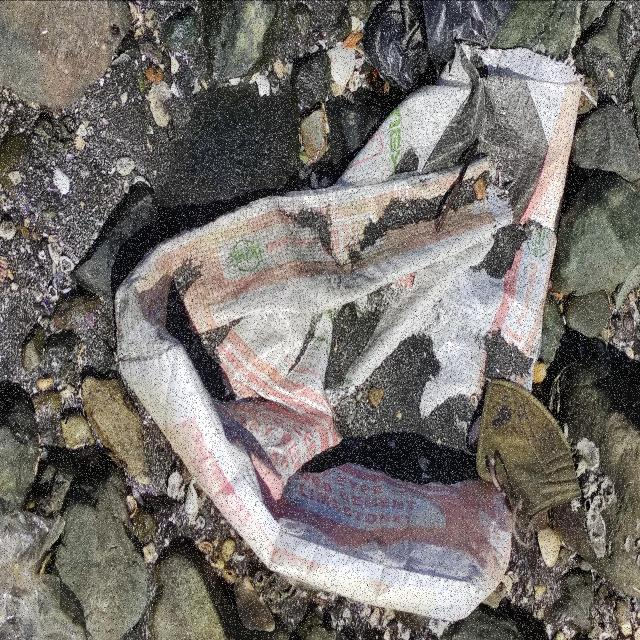plastic_waste: (115, 43, 586, 623)
